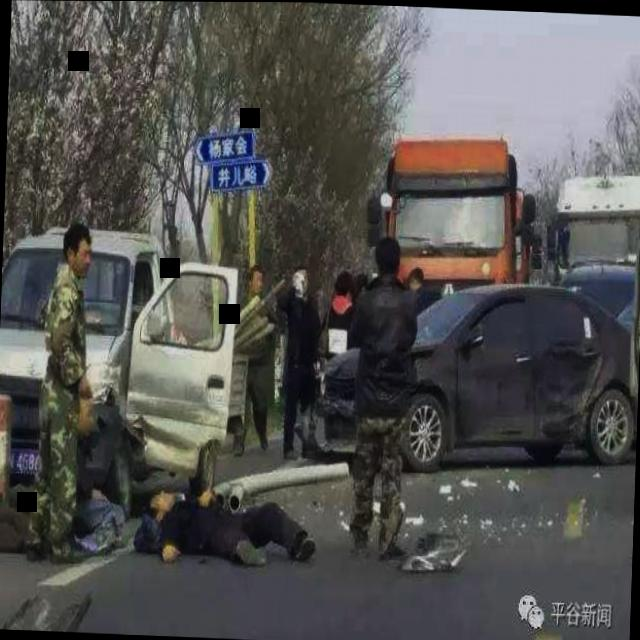Fall-Detected: (138, 476, 324, 576)
